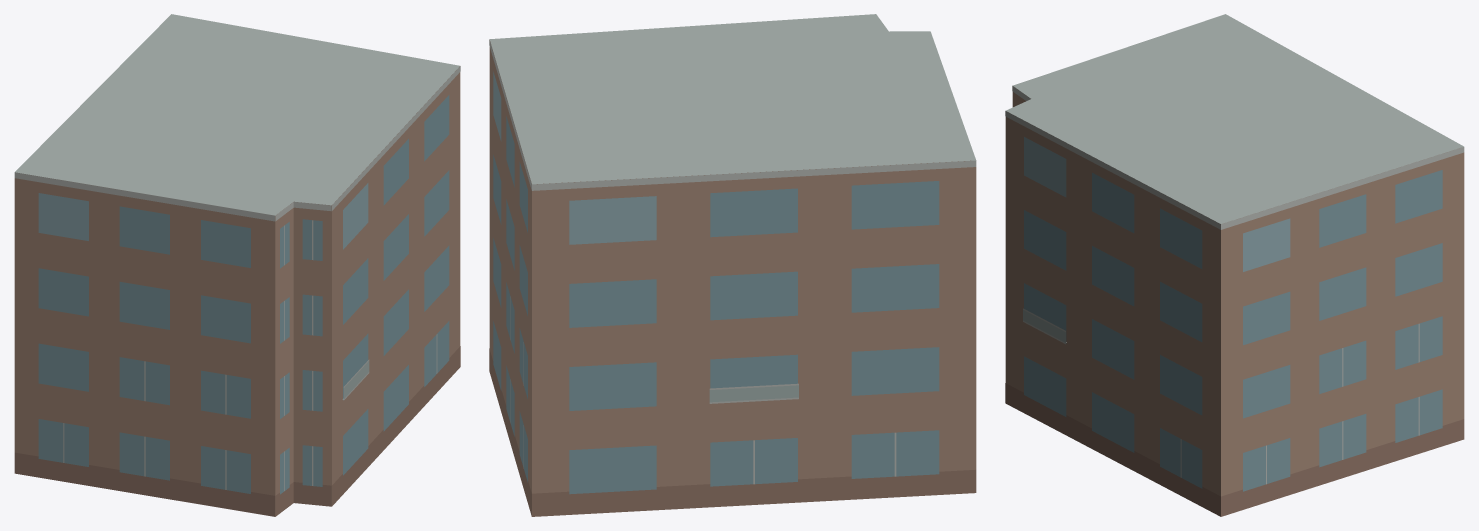
The model's file is survey-upis-33016657.glb.
3 views of the same model, side by side, from view 1: azimuth 30°, elevation 25°; view 2: azimuth 150°, elevation 25°; view 3: azimuth 270°, elevation 25° (orthographic). The views are drawn at different scales.
Visible parts, largest first — view 1: survey-upis-33016657.tmp; view 2: survey-upis-33016657.tmp; view 3: survey-upis-33016657.tmp.
Boxes of the visible parts, left/top/right/bottom form: survey-upis-33016657.tmp: left=14, top=14, right=460, bottom=516; survey-upis-33016657.tmp: left=489, top=14, right=976, bottom=516; survey-upis-33016657.tmp: left=1005, top=14, right=1464, bottom=516.
Size of the model in its own units: 19.11 by 12.4 by 17.62.
